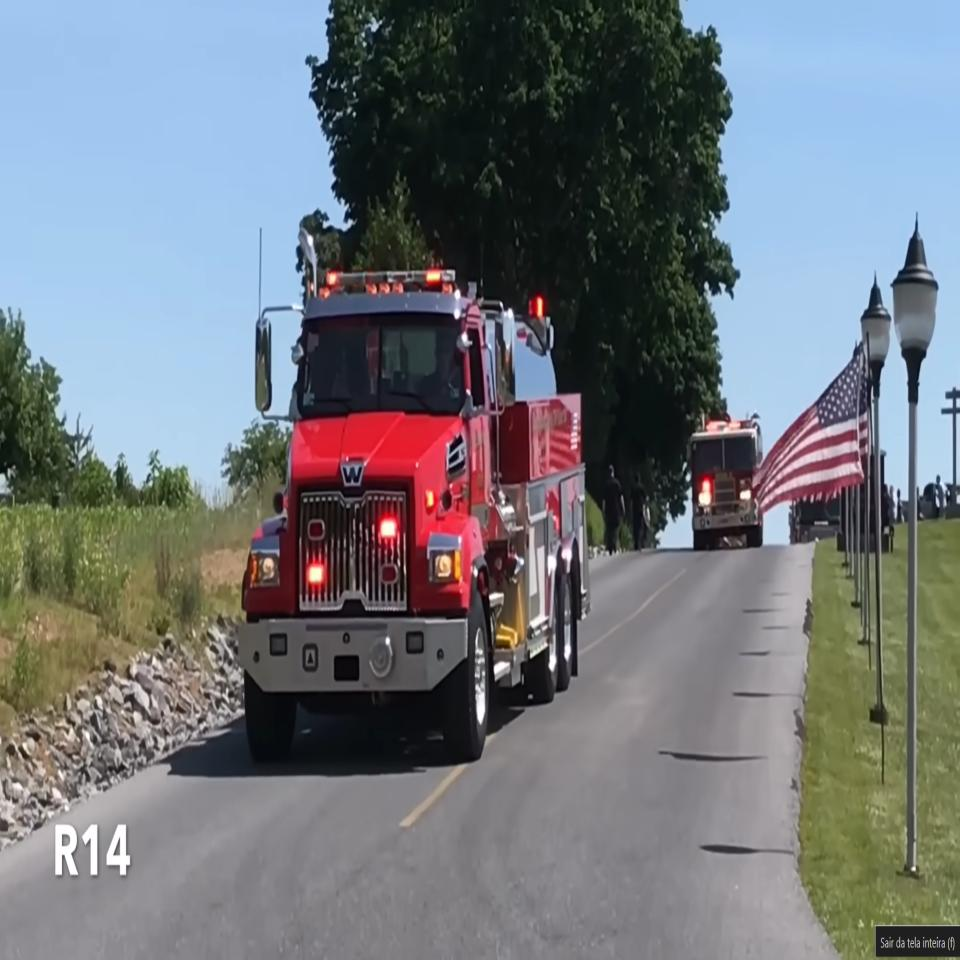viatura: (238, 218, 592, 761)
